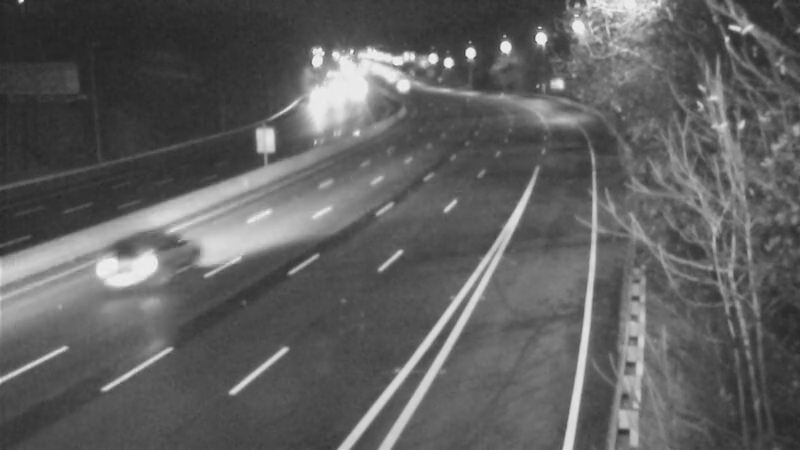vehicle: (89, 228, 169, 308), (375, 61, 425, 111), (296, 75, 346, 125)
